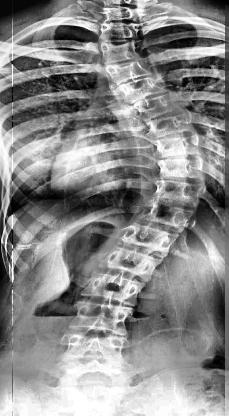Vertebrae: (82, 268, 142, 306), (121, 222, 177, 260), (72, 301, 134, 335), (102, 247, 164, 280), (58, 336, 130, 362), (142, 206, 198, 233), (153, 157, 209, 183), (156, 132, 204, 162), (156, 183, 210, 207), (124, 74, 167, 102), (140, 92, 180, 121), (105, 60, 151, 84), (150, 116, 198, 138), (98, 20, 144, 42), (102, 40, 143, 60)
